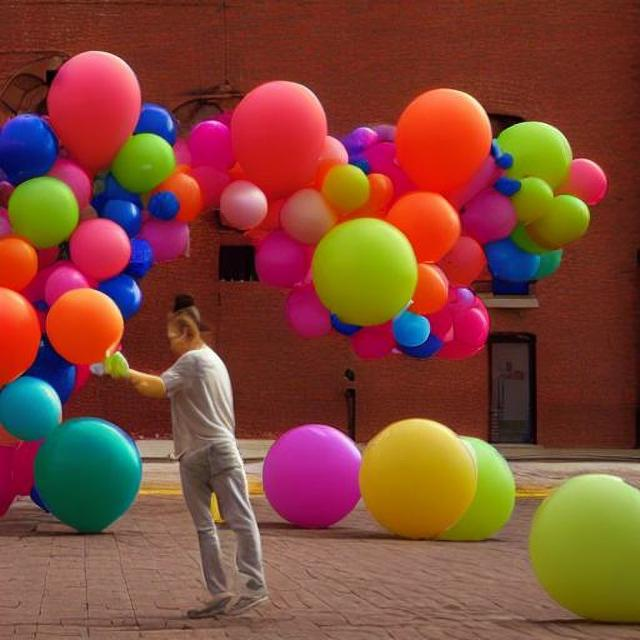balloon: (0, 52, 575, 368), (518, 468, 640, 624), (252, 418, 412, 532), (13, 411, 146, 534)
